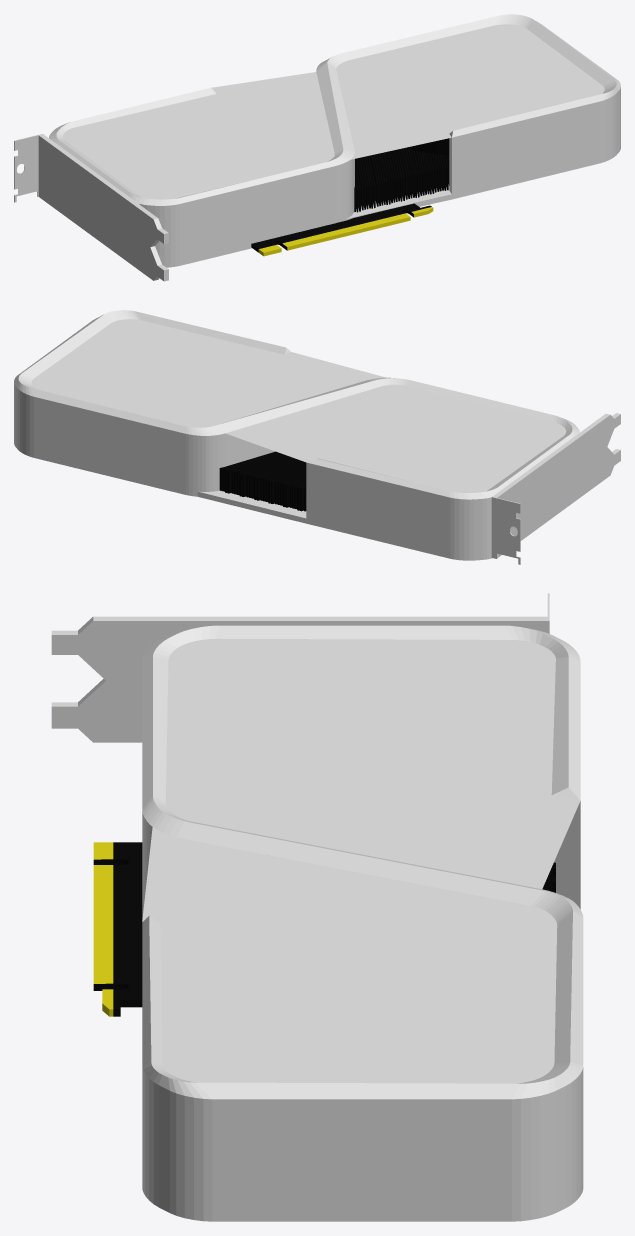
3 renders of one model, top to bottom at view 1: azimuth 30°, elevation 25°; view 2: azimuth 150°, elevation 25°; view 3: azimuth 270°, elevation 25°, orthographic. The views are drawn at different scales.
Visible parts, largest first — view 1: grenaj, tutturma, ızgara, pci, fan1; view 2: grenaj, tutturma, ızgara.001; view 3: grenaj, tutturma, pci.
Boxes of the visible parts, x1,y1,x2,y2 form: grenaj: (49, 14, 620, 267); tutturma: (14, 133, 168, 281); ızgara: (354, 148, 449, 212); pci: (251, 203, 433, 256); fan1: (399, 138, 449, 160); grenaj: (14, 310, 579, 560); tutturma: (491, 413, 620, 564); ızgara.001: (219, 451, 306, 511); grenaj: (142, 625, 583, 1221); tutturma: (51, 593, 549, 742); pci: (93, 842, 142, 1016).
Bounding box in the file's own units: 508 × 62.53 × 228.
